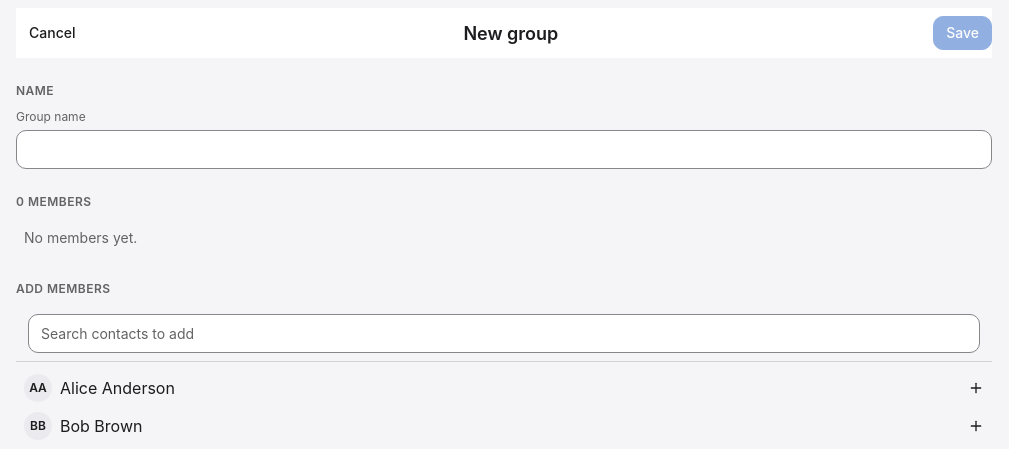
GroupForm create › moves a picked contact out of the candidate list into the member list
Click the button with aria-label "Add Alice Anderson" at point(117, 388), box left=16, top=370, right=992, bottom=406
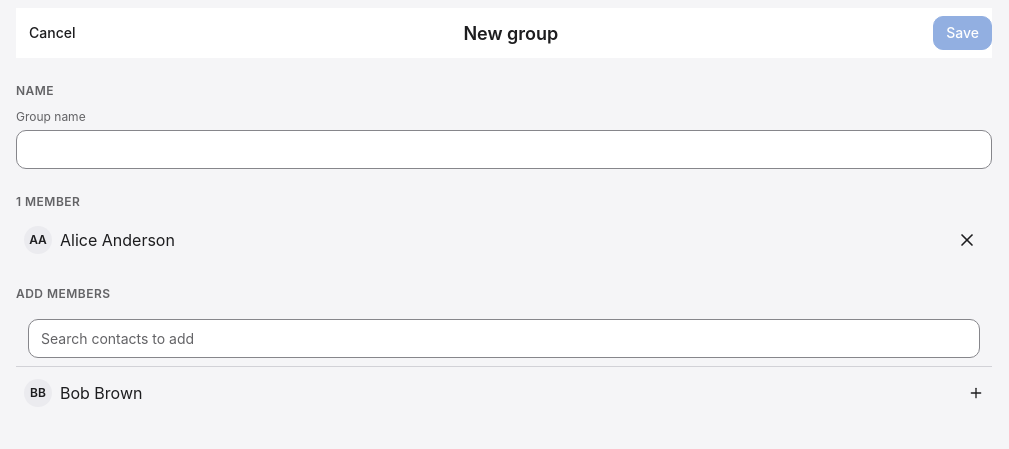
Now the button named "Remove Alice Anderson from group" is shown, box left=950, top=223, right=984, bottom=257
